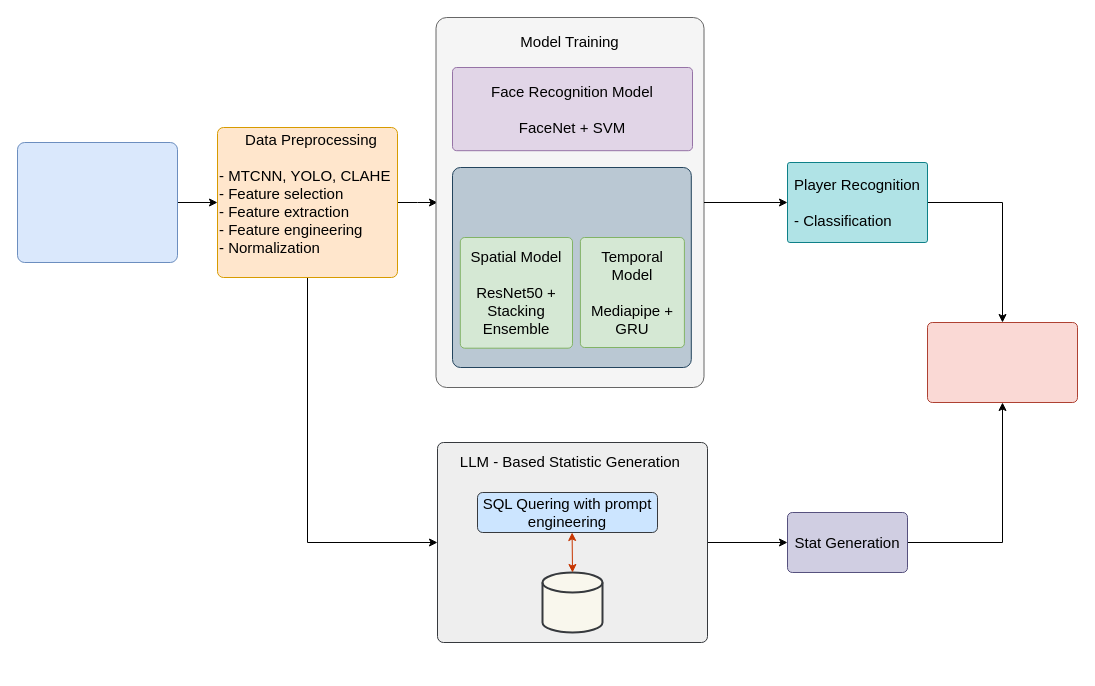
Image size: 1095x686. Some labels were removed from this diagram. The box of each missing label's shape, as (x1, y1, x2, y2) in pixels:
Data Collection - Player face data - Player gait data - Player stat data: (16, 142, 178, 262)
Hybrid Spatio-Temporal Gait Analysis Model: (452, 166, 691, 368)
Model Evaluation - Validation - Model Comparisons: (926, 322, 1078, 402)
MySQL DB: (541, 571, 603, 633)
